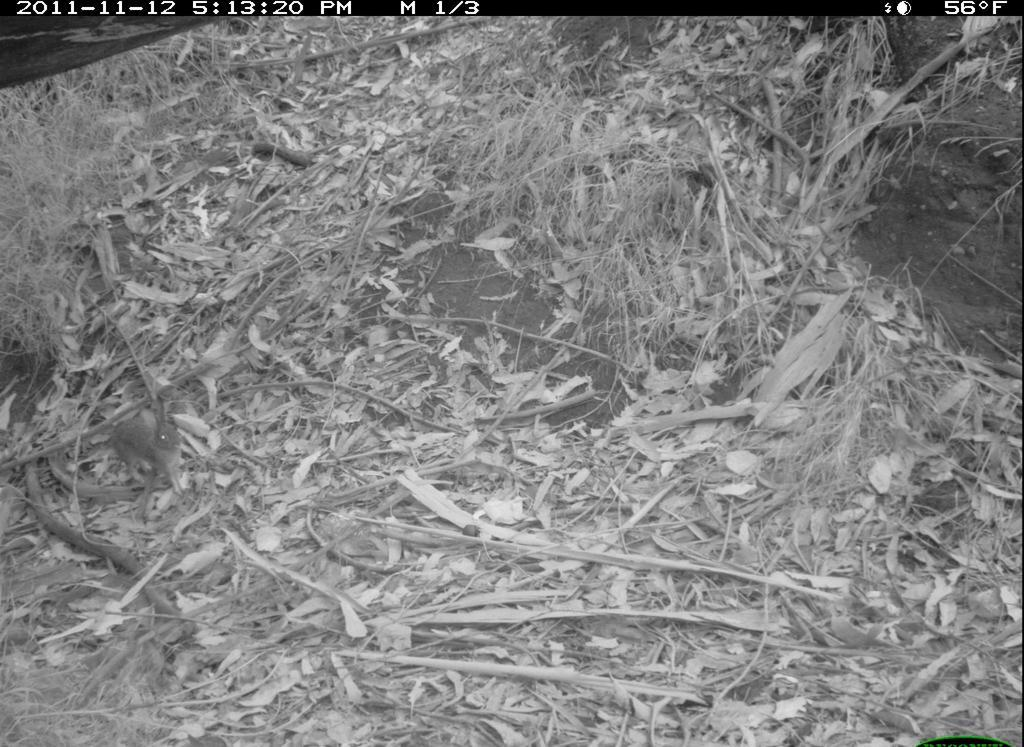rabbit: (84, 387, 219, 497)
